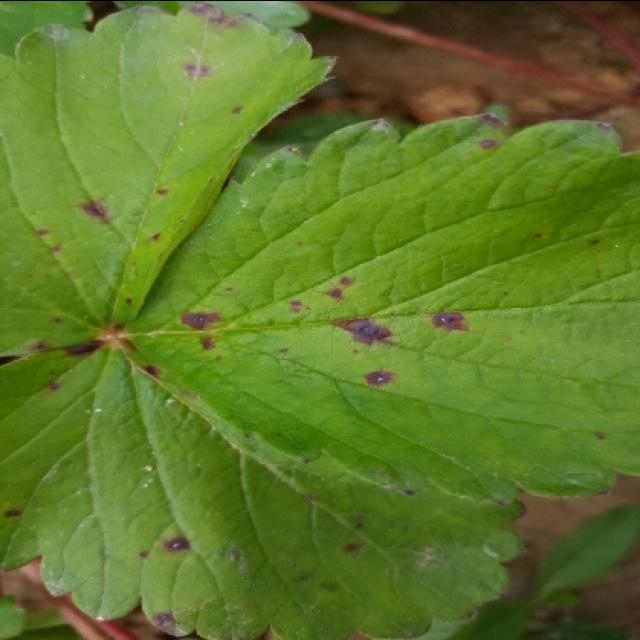Leaf Spot: (117, 112, 638, 505), (0, 335, 530, 638), (0, 0, 342, 362)
